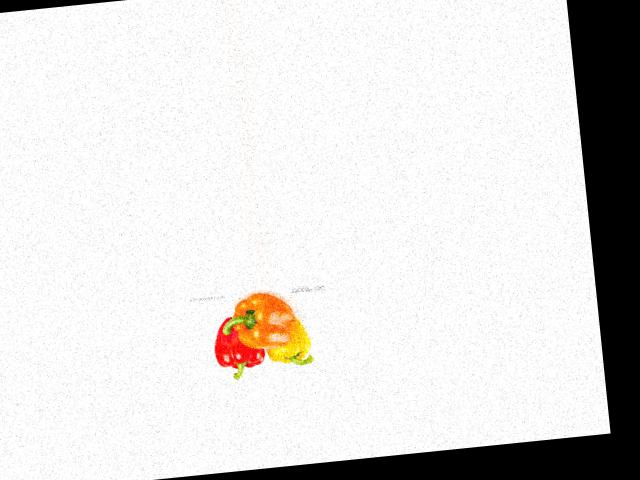bell_pepper: (261, 314, 316, 371)
